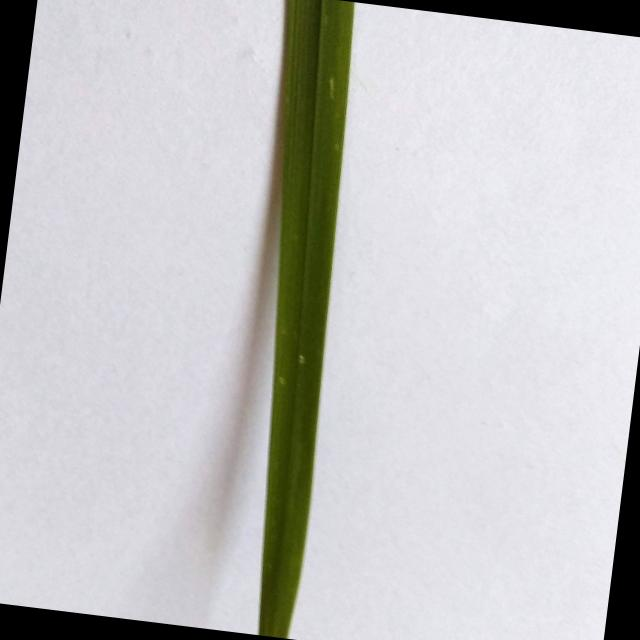Rice_Healthy: (258, 0, 354, 638)
